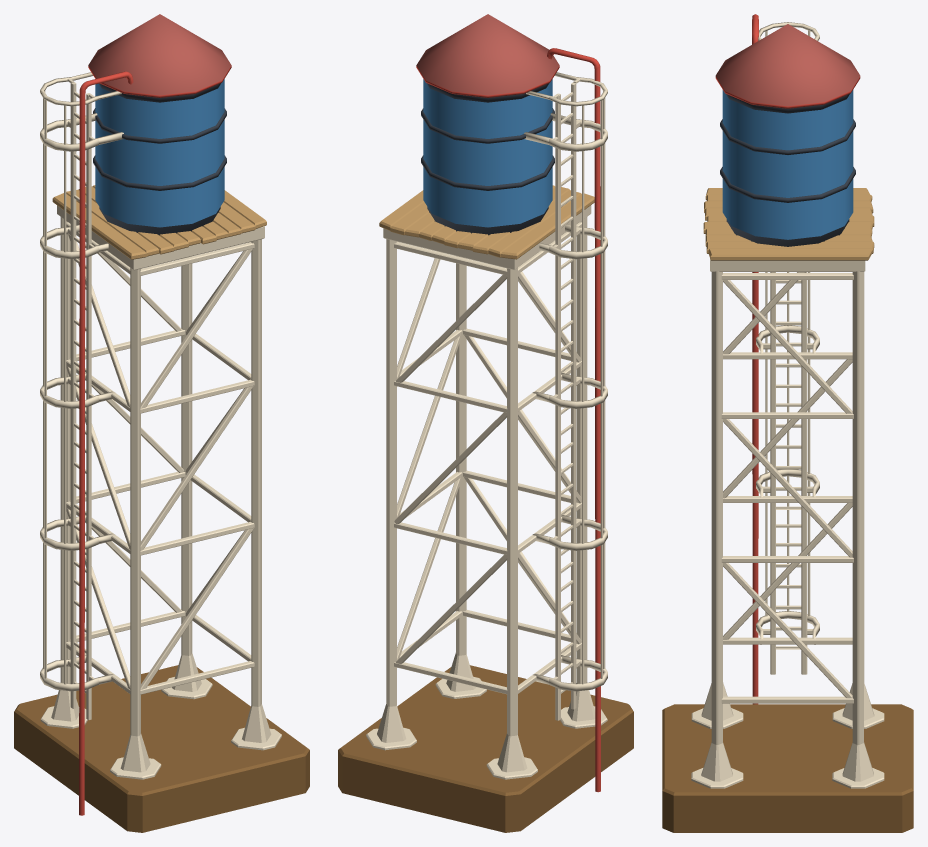
Rendered from farmstractures_21.gltf.
The picture shows the model from 3 angles, left to right: view 1: azimuth 30°, elevation 25°; view 2: azimuth 150°, elevation 25°; view 3: azimuth 270°, elevation 25°; orthographic projection.
Visible parts, largest first — view 1: body, blades; view 2: body, blades; view 3: body, blades.
Part boxes in pixels (left/top/right/bottom): body: left=14, top=14, right=309, bottom=832; blades: left=43, top=83, right=91, bottom=719; body: left=338, top=14, right=633, bottom=832; blades: left=555, top=84, right=605, bottom=720; body: left=662, top=14, right=913, bottom=832; blades: left=765, top=30, right=810, bottom=674.
Bounding box in the file's own units: 2.89 × 10.13 × 2.98.
1 material, 1 textured.
